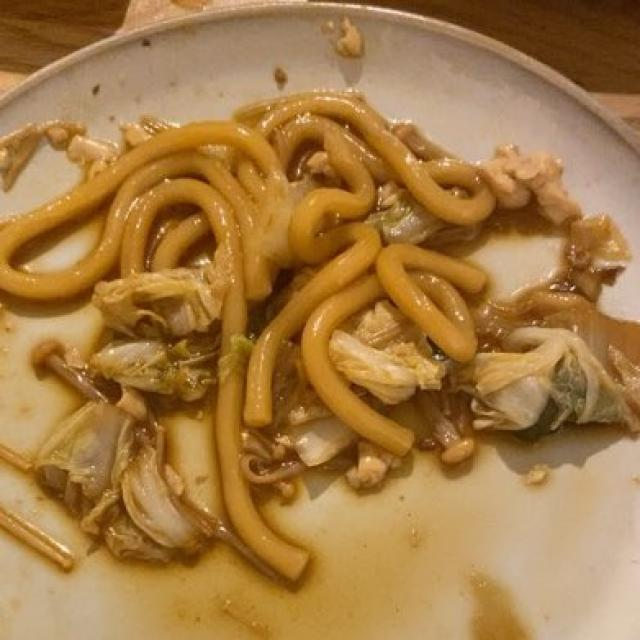chinese-cabbage: (37, 286, 622, 594)
mushrooms: (403, 383, 480, 460)
pasta: (0, 100, 491, 616)
